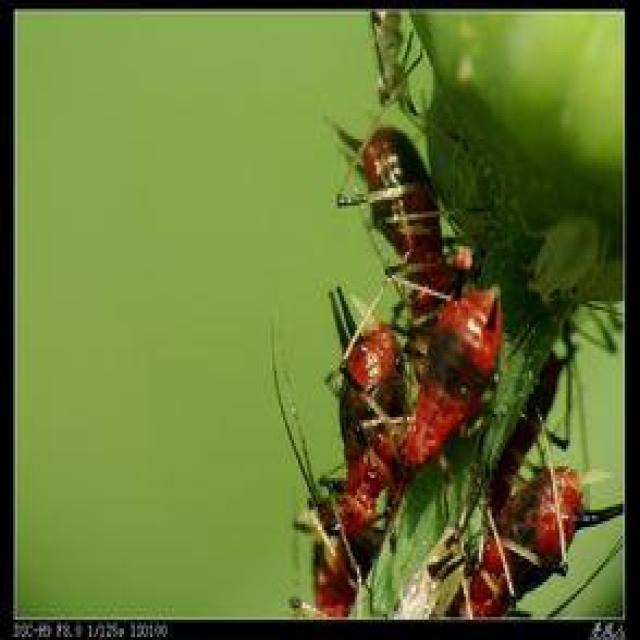Aphids: (384, 241, 517, 485)
